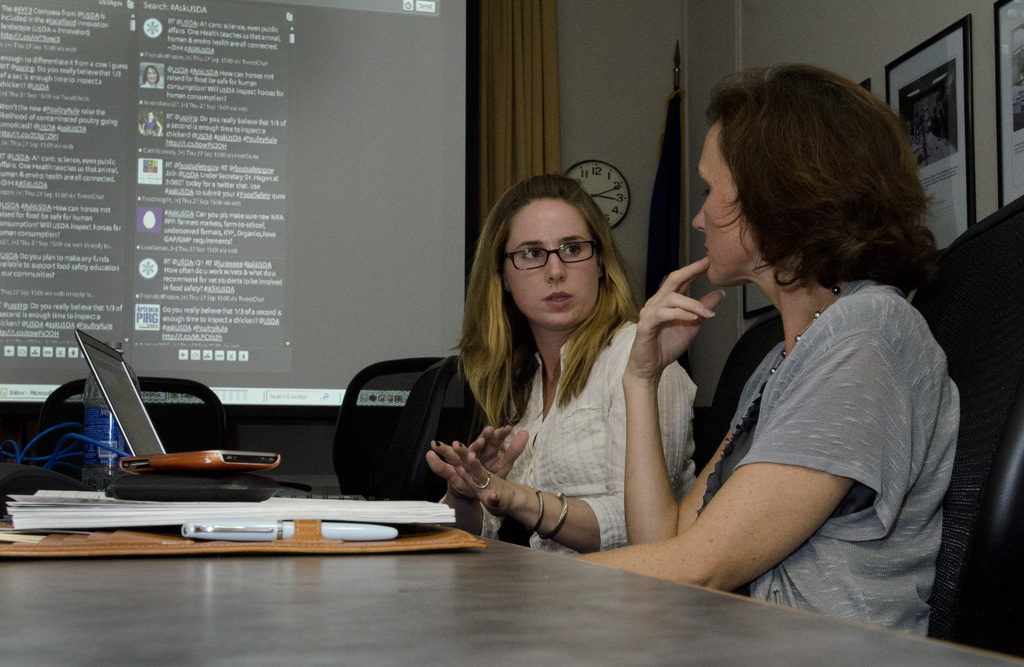Pen: (184, 515, 396, 543)
